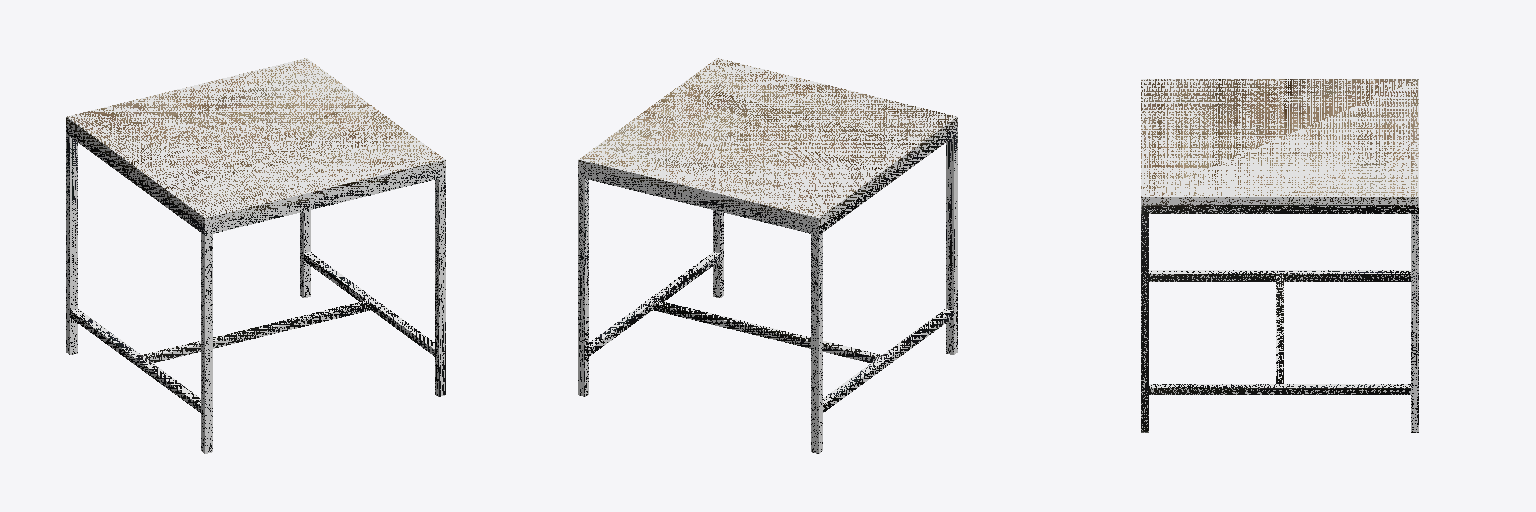
The picture shows the model from 3 angles: view 1: azimuth 30°, elevation 25°; view 2: azimuth 150°, elevation 25°; view 3: azimuth 270°, elevation 25°; orthographic projection.
Visible parts, largest first — view 1: mesh1_mesh1-geometry; view 2: mesh1_mesh1-geometry; view 3: mesh1_mesh1-geometry.
Part boxes in pixels (bbox=[...]): mesh1_mesh1-geometry: bbox=[66, 58, 445, 453]; mesh1_mesh1-geometry: bbox=[578, 58, 957, 453]; mesh1_mesh1-geometry: bbox=[1141, 79, 1418, 432].
Size of the model in its own units: 0.5894 by 0.5525 by 0.5894.
6 materials, 5 textured.